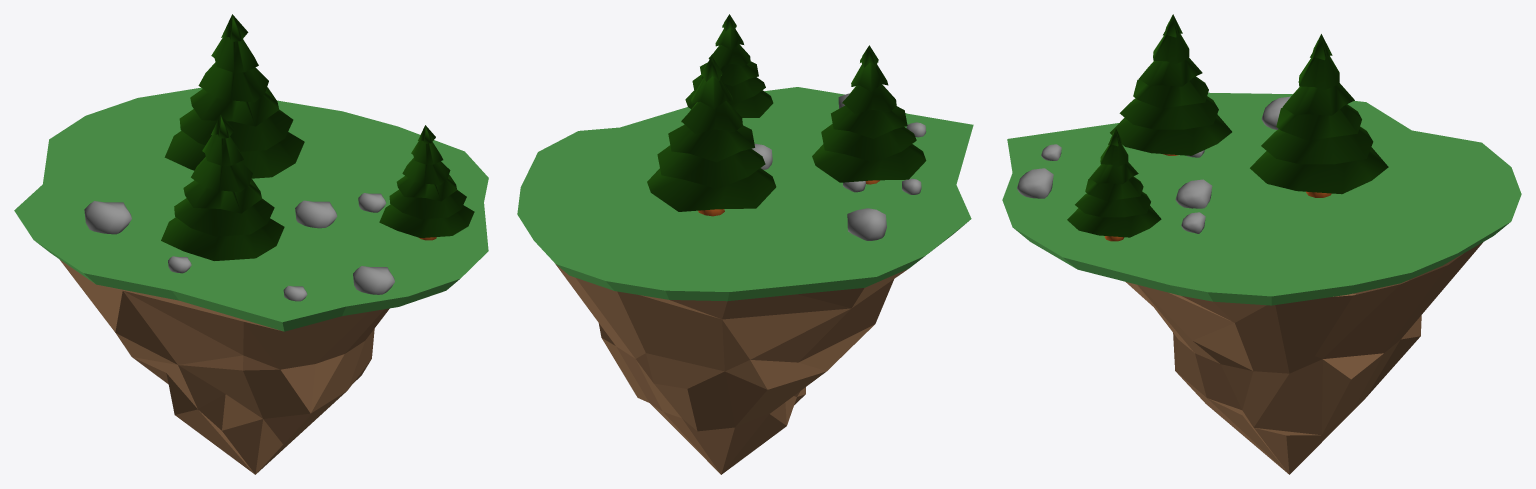
Rendered from Island_2.fbx.
The picture shows the model from 3 angles, left to right: view 1: azimuth 30°, elevation 25°; view 2: azimuth 150°, elevation 25°; view 3: azimuth 270°, elevation 25°; orthographic projection. The views are drawn at different scales.
Visible parts, largest first — view 1: Island Grass, Island, Tree Behind Plant, Tree Mid Plant, Tree Foward Plant, Icosphere.002, Icosphere.007, Icosphere.005; view 2: Island Grass, Island, Tree Behind Plant, Tree Mid Plant, Tree Foward Plant, Icosphere.002; view 3: Island Grass, Island, Tree Behind Plant, Tree Mid Plant, Tree Foward Plant, Icosphere.007, Icosphere.005.
Boxes of the visible parts, x1,y1,x2,y2 form: Island Grass: (14,88,488,331); Island: (59,259,389,474); Tree Behind Plant: (164,14,304,178); Tree Mid Plant: (161,114,284,260); Tree Foward Plant: (379,125,474,237); Icosphere.002: (84,201,131,234); Icosphere.007: (353,266,394,294); Icosphere.005: (295,200,337,228); Island Grass: (517,87,973,301); Island: (555,264,907,474); Tree Behind Plant: (647,56,776,211); Tree Mid Plant: (812,45,926,182); Tree Foward Plant: (685,14,773,117); Icosphere.002: (847,208,886,240); Island Grass: (1002,92,1521,305); Island: (1126,242,1483,474); Tree Behind Plant: (1250,34,1388,194); Tree Mid Plant: (1110,14,1231,155); Tree Foward Plant: (1067,128,1161,237); Icosphere.007: (1017,168,1053,198); Icosphere.005: (1175,179,1212,208).
Bounding box in the file's own units: 589 × 607 × 652.
